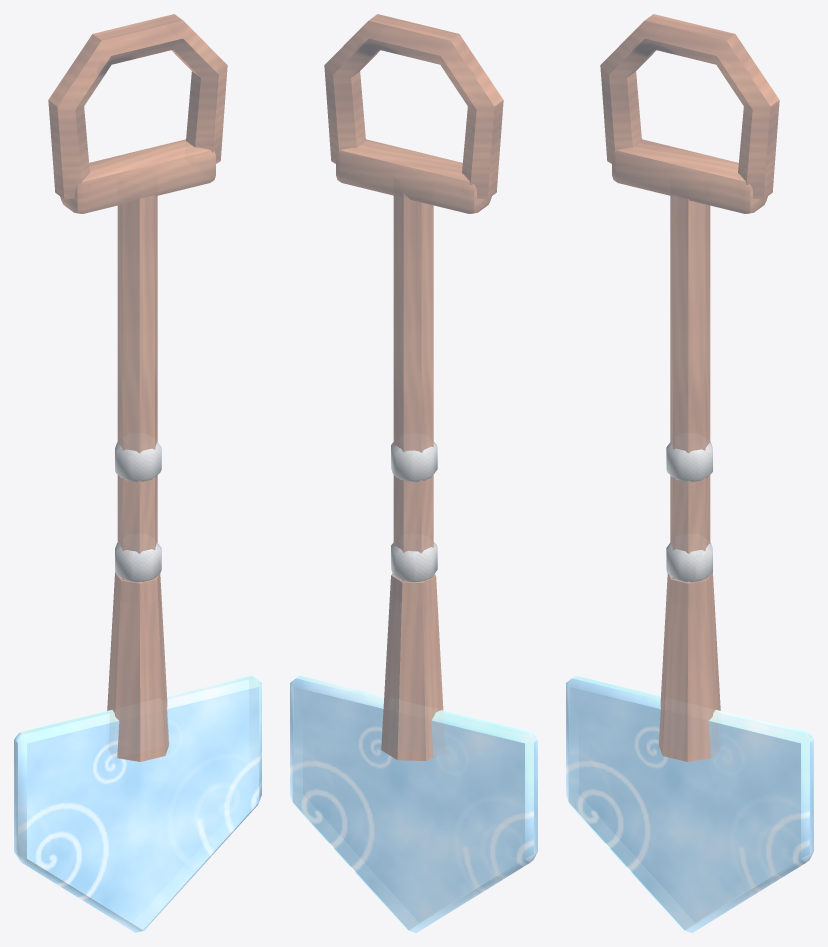
Rendered from shovel_t1.gltf.
3 renders of one model, left to right at view 1: azimuth 30°, elevation 25°; view 2: azimuth 150°, elevation 25°; view 3: azimuth 330°, elevation 25°, orthographic.
Visible parts, largest first — view 1: shovel_t1_mesh; view 2: shovel_t1_mesh; view 3: shovel_t1_mesh.
Boxes of the visible parts, x1,y1,x2,y2 form: shovel_t1_mesh: [14, 14, 261, 932]; shovel_t1_mesh: [290, 14, 537, 932]; shovel_t1_mesh: [566, 14, 813, 932].
Size of the model in its own units: 0.34 by 1.2 by 0.076.
Materials: 3 (3 with a texture image).
